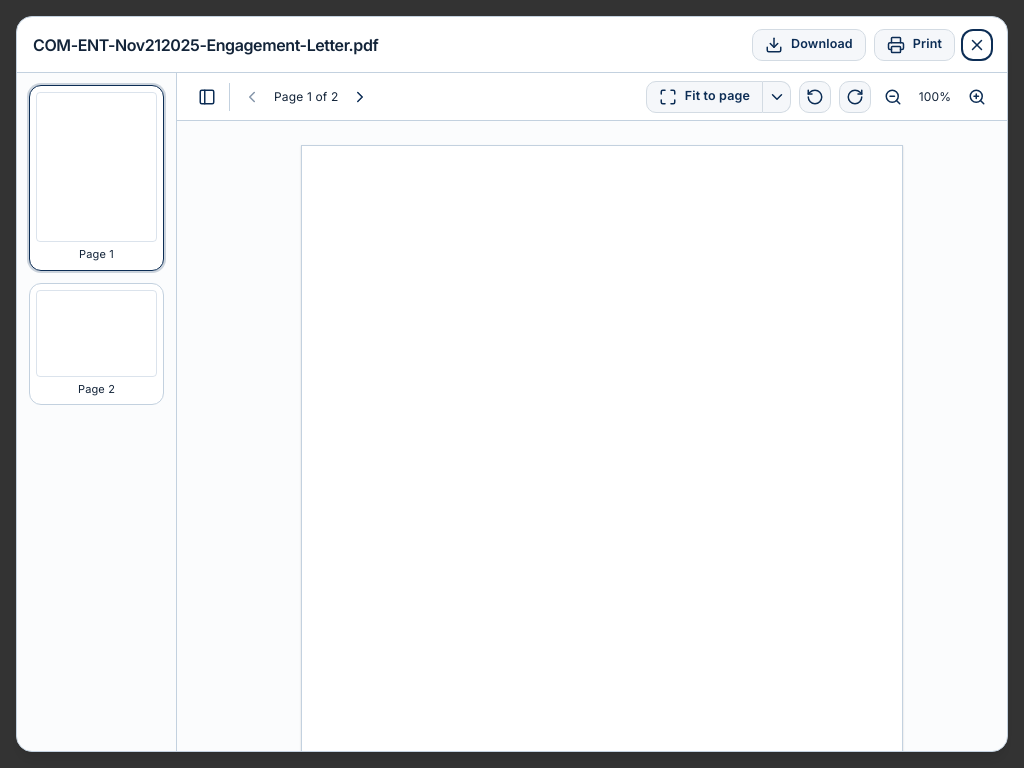
Scenario: Engagement Letter Preview modal › rotates all pages and thumbnails via buttons and shortcuts, and resets rotation on reopen
The image size is (1024, 768).
Later steps or results of the test are not shown.
Expected: the text "Page 1 of 2" is shown, [274,88,338,104]
Button rotate right + keyboard R / Shift+R / Ctrl+0
Click the button named "Rotate right".
click(855, 96)  # box [839,80,871,112]
Press r
Press R
Press 0
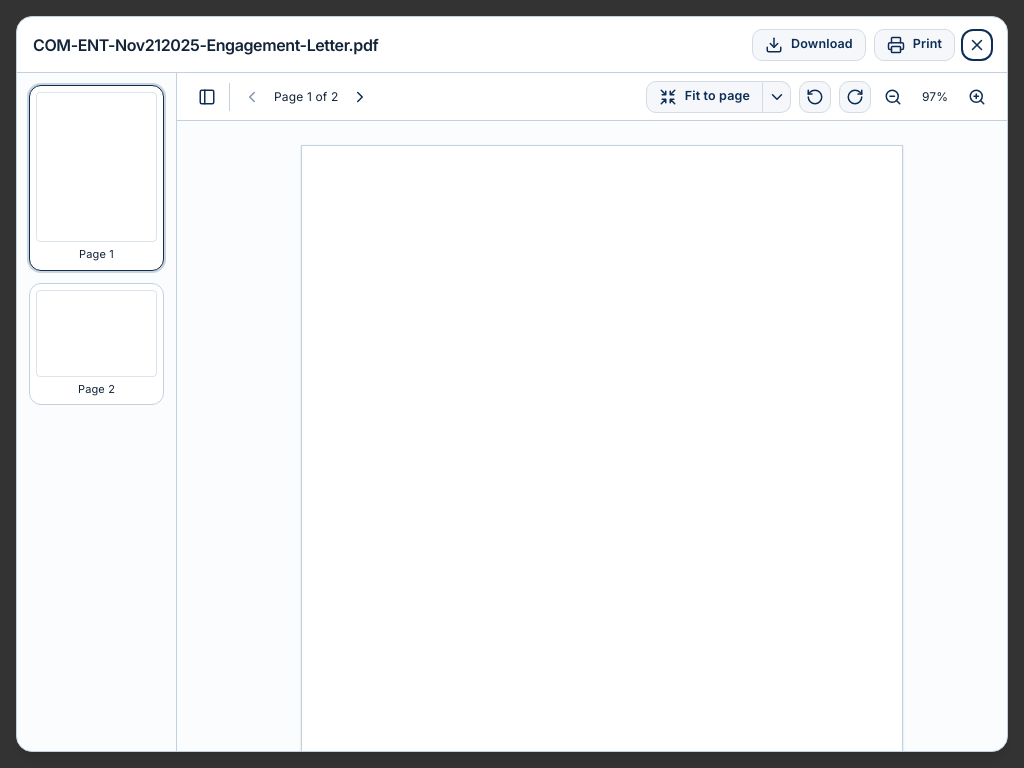
Expected: the button "Fit to page" is pressed, [646,80,763,112]
